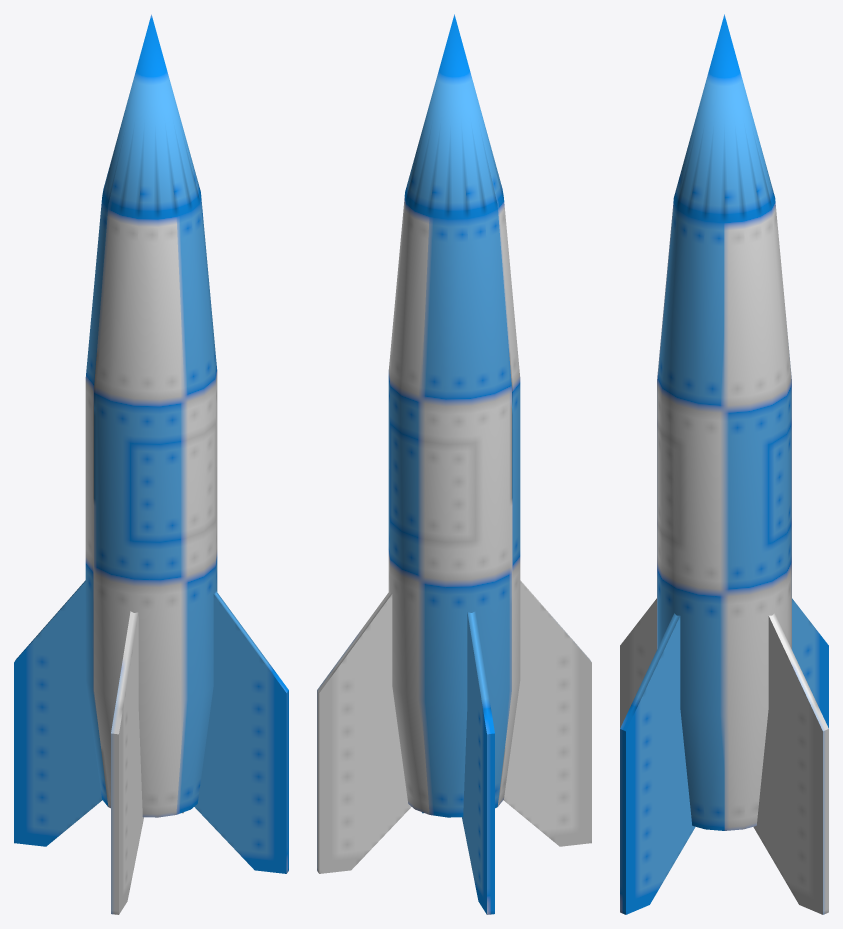
Rendered from missile_decoy.obj.
3 renders of one model, left to right at view 1: azimuth 30°, elevation 25°; view 2: azimuth 150°, elevation 25°; view 3: azimuth 270°, elevation 25°, orthographic.
Parts seen in each view (by area): view 1: missile_decoy; view 2: missile_decoy; view 3: missile_decoy.
Part boxes in pixels (x1,y1,x2,y2): missile_decoy: (14,14,288,914); missile_decoy: (317,14,591,914); missile_decoy: (620,14,828,914).
Bounding box in the file's own units: 1.55 × 7 × 1.55.
